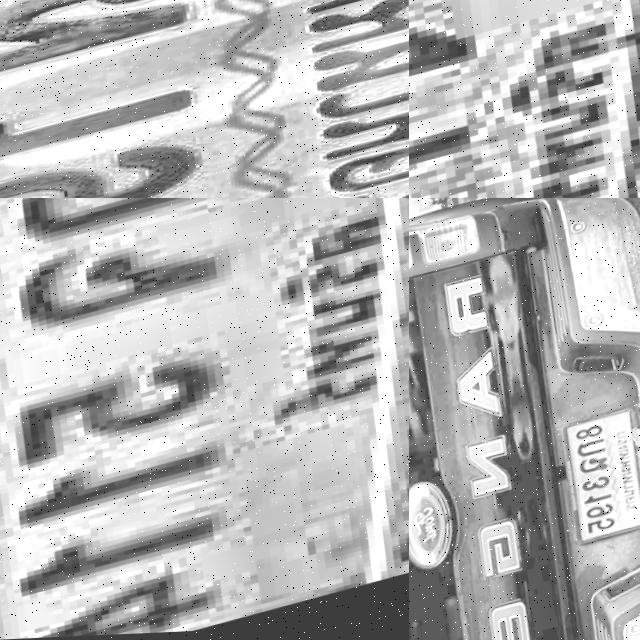license-plate: (0, 198, 409, 640), (0, 0, 409, 198), (409, 0, 640, 198), (551, 404, 640, 553)
